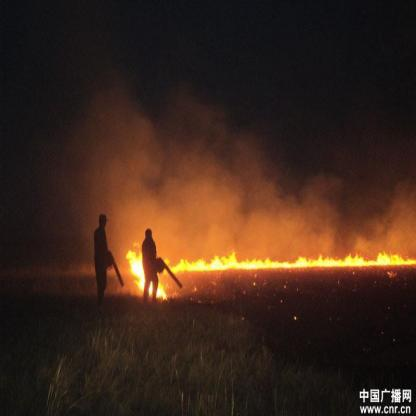fire: (161, 238, 415, 278), (123, 243, 144, 295), (157, 280, 168, 300), (148, 277, 152, 294)
other: (96, 212, 110, 227)
smoke: (70, 109, 335, 227)
